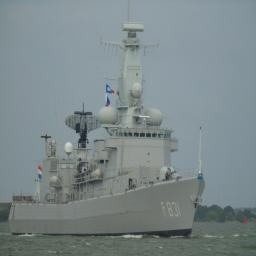Fragata: (8, 21, 209, 238)
